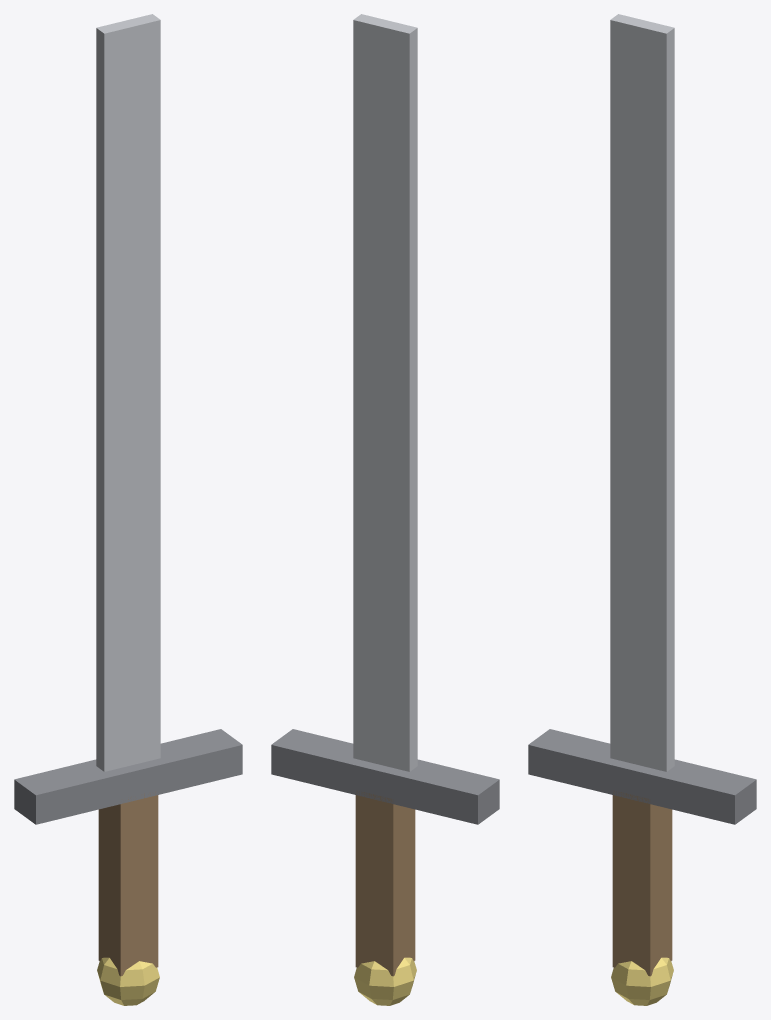
Rendered from sm_sword.glb.
The picture shows the model from 3 angles, left to right: view 1: azimuth 30°, elevation 25°; view 2: azimuth 150°, elevation 25°; view 3: azimuth 330°, elevation 25°; orthographic projection.
Parts seen in each view (by area): view 1: sm_sword; view 2: sm_sword; view 3: sm_sword.
Part boxes in pixels (x1,y1,x2,y2): sm_sword: (14, 14, 242, 1005); sm_sword: (271, 14, 499, 1005); sm_sword: (528, 14, 756, 1005).
Bounding box in the file's own units: 0.22 × 0.995 × 0.06.
